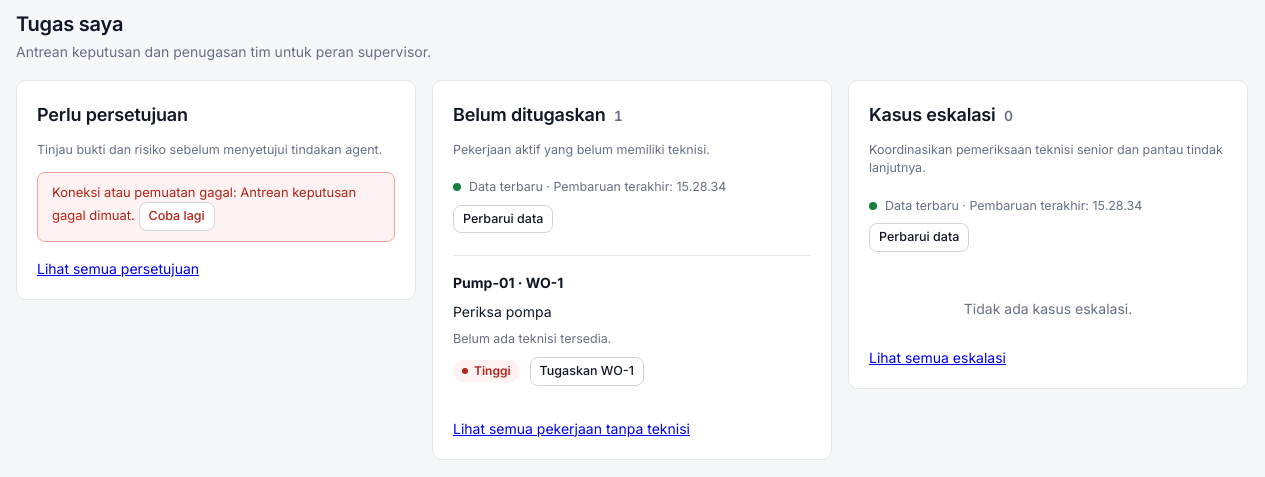
Test: isolates queue errors and supports retry while other queues remain usable
Expected: the message shows "Antrean keputusan gagal dimuat", [52,184,356,223]
Expected: the button "Tugaskan WO-1" is shown, [530,357,644,386]
What coordinates should you click on to do the following:
click the button "Coba lagi"
I would click on:
 (177, 217)
Its box is [138,202,215,231].
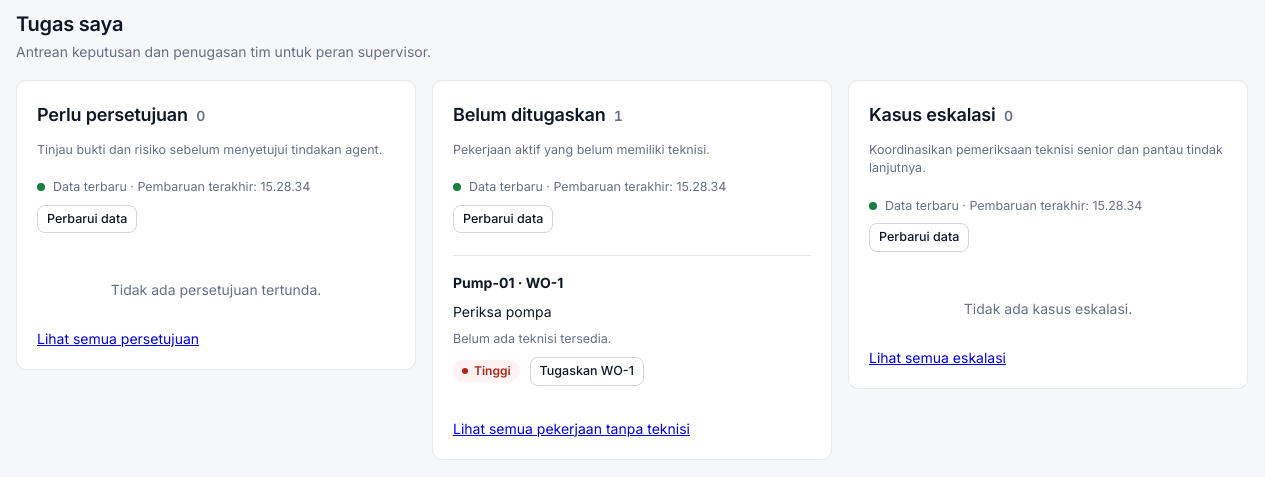
Now the text "Tidak ada persetujuan tertunda." is shown, box [111,281,321,298]
Now the message "Koneksi atau pemuatan gagal: Antrean keputusan gagal dimuat. Coba lagi" is gone
